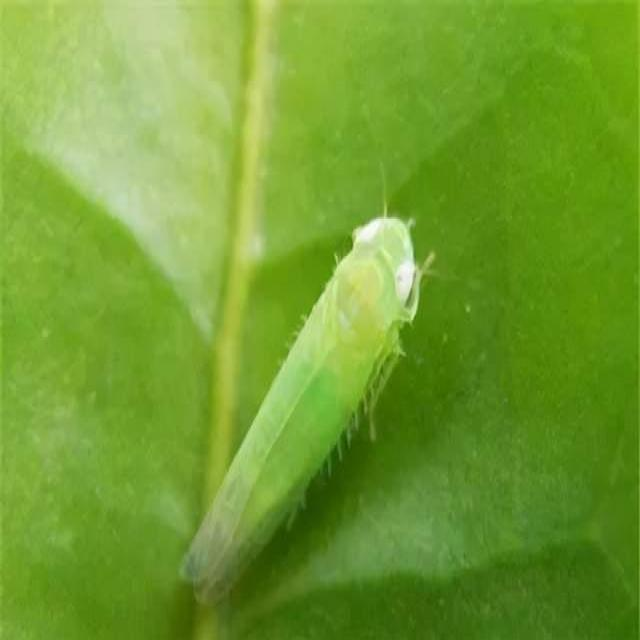Yechan: (174, 204, 434, 602)
